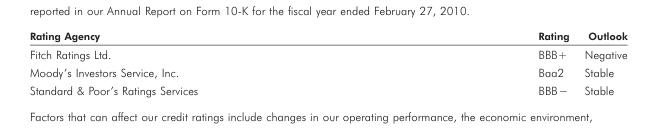table: (28, 29, 626, 96)
table column: (28, 29, 367, 96), (367, 29, 576, 96), (576, 29, 626, 96)
table column header: (28, 29, 626, 44)
table row: (28, 44, 626, 63), (28, 63, 626, 81), (28, 29, 626, 44), (28, 81, 626, 96)
